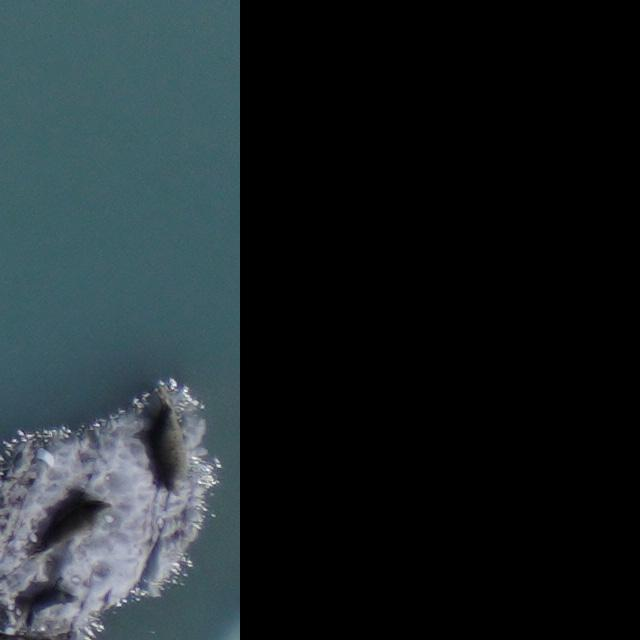seal: (24, 492, 119, 558), (142, 391, 197, 503), (10, 569, 85, 633)
